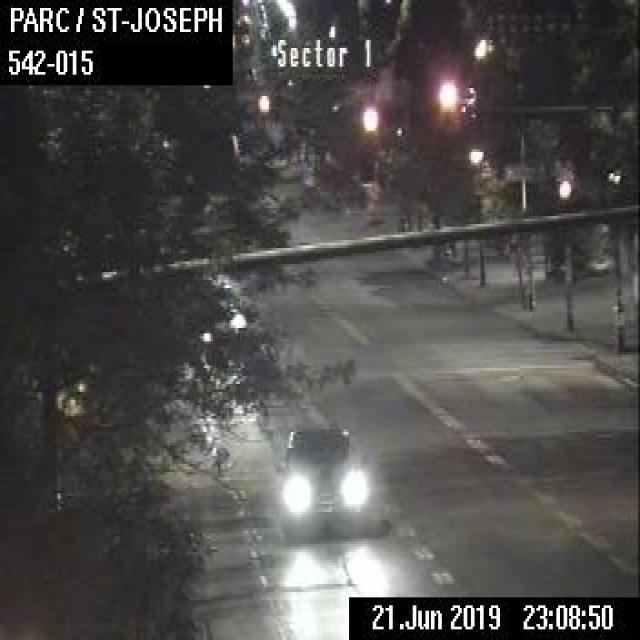vehicle: (272, 421, 370, 541)
